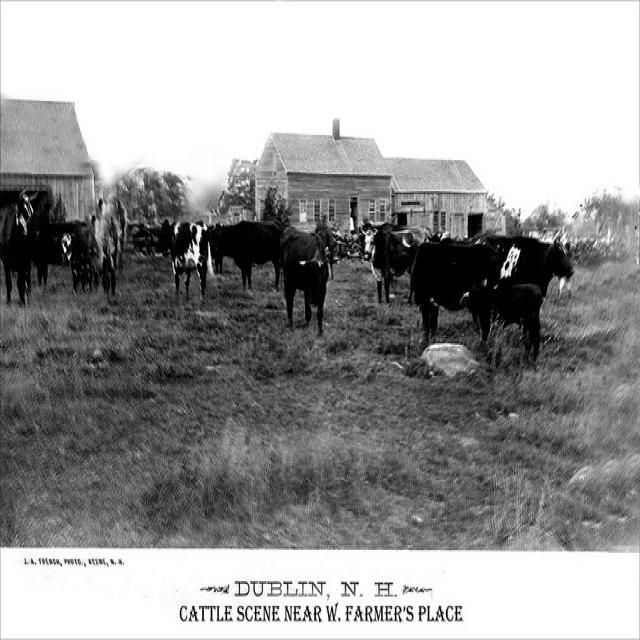cow: (407, 235, 521, 347), (279, 222, 328, 333), (153, 215, 217, 299), (210, 217, 280, 289), (0, 185, 37, 306), (80, 196, 125, 294), (360, 225, 420, 298), (505, 236, 576, 295), (492, 283, 543, 359), (31, 224, 73, 287), (315, 224, 333, 277)
